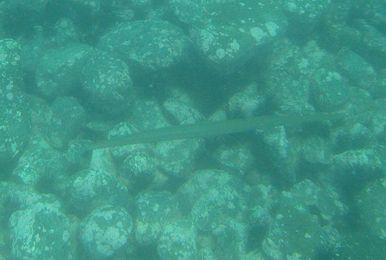Fistularia commersonii: (42, 102, 374, 150)
